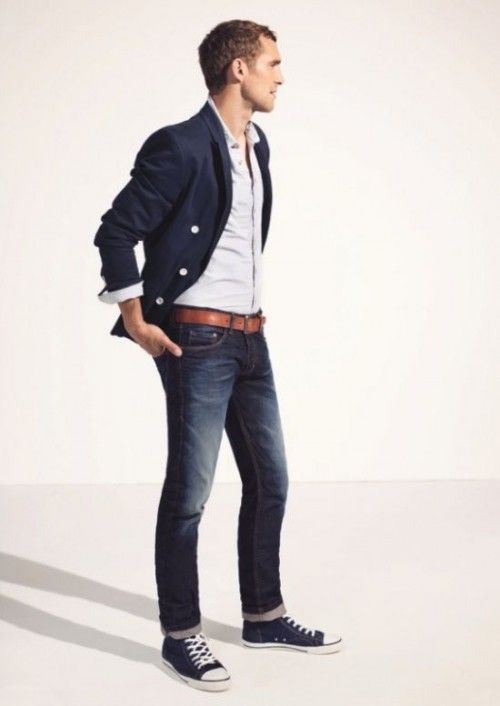NOTSAFE: (146, 21, 285, 346)
